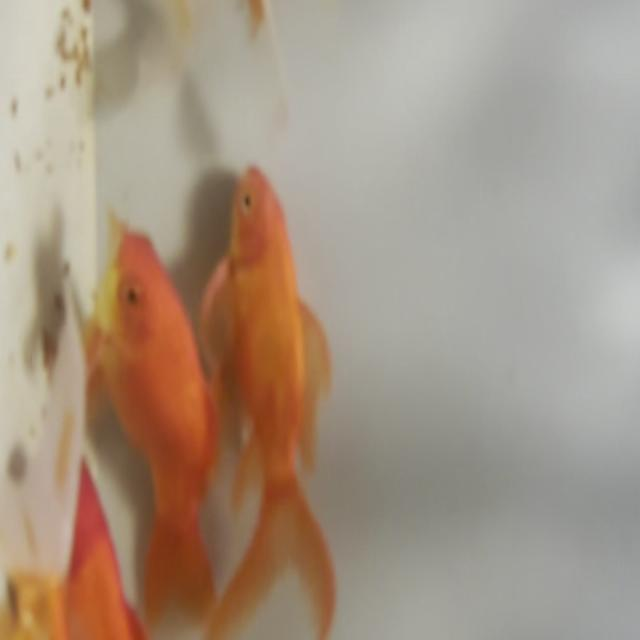fish: (201, 161, 335, 640), (82, 212, 223, 638), (58, 451, 161, 640)
